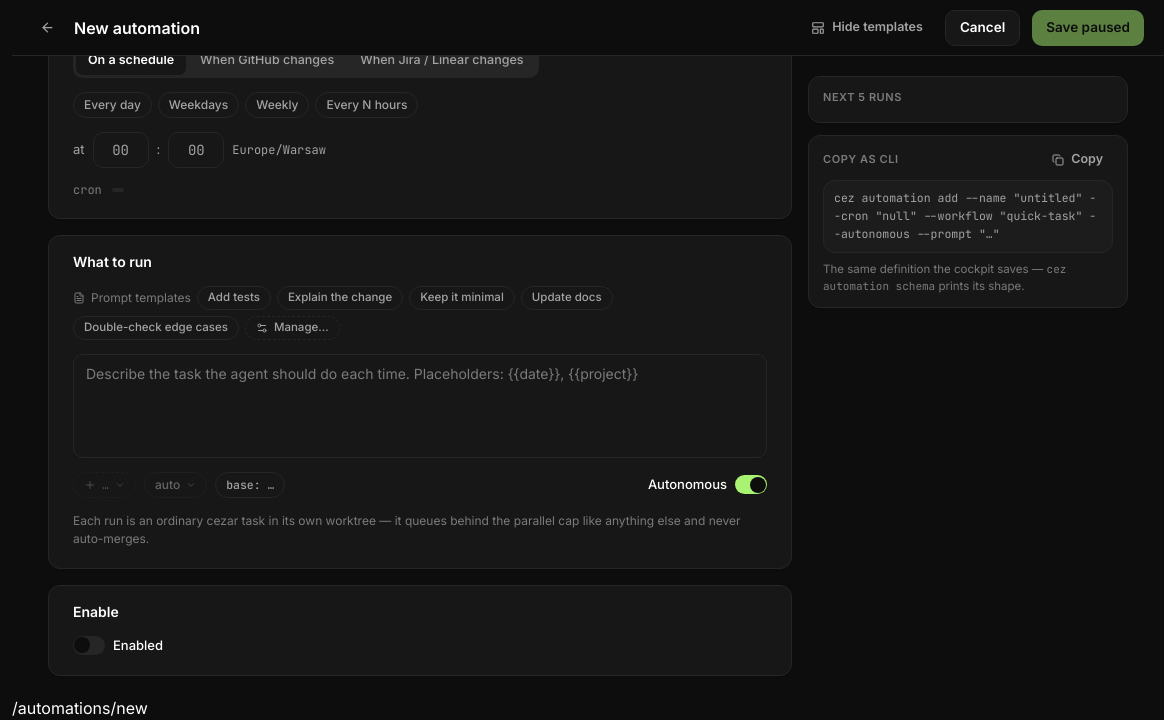
Test case: AutomationEditor — new › inserts a prompt template at the caret and offers Manage… into Settings
This screenshot has width=1164, height=720.
Check: the button "Add tests" is shown, box [197,286,271,310]
Replace the text in the text box named "Prompt" with "Bump deps.": (420, 406) [73,354,767,458]
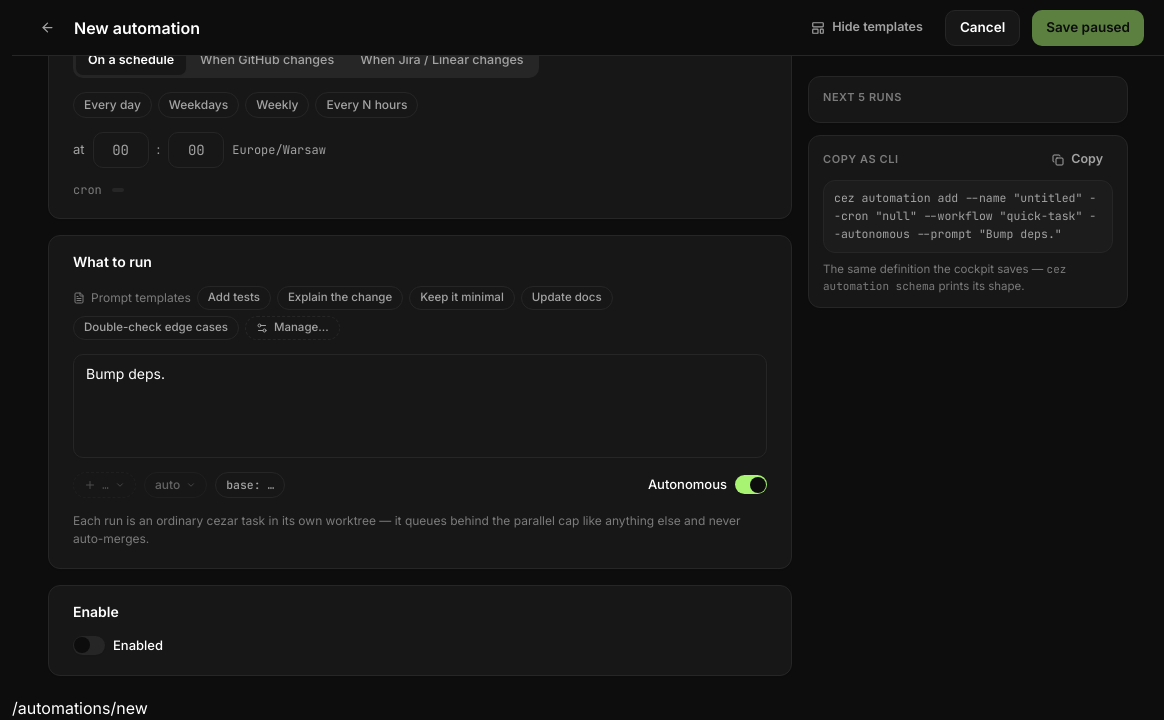
Click the button "Add tests": (234, 298) [197,286,271,310]
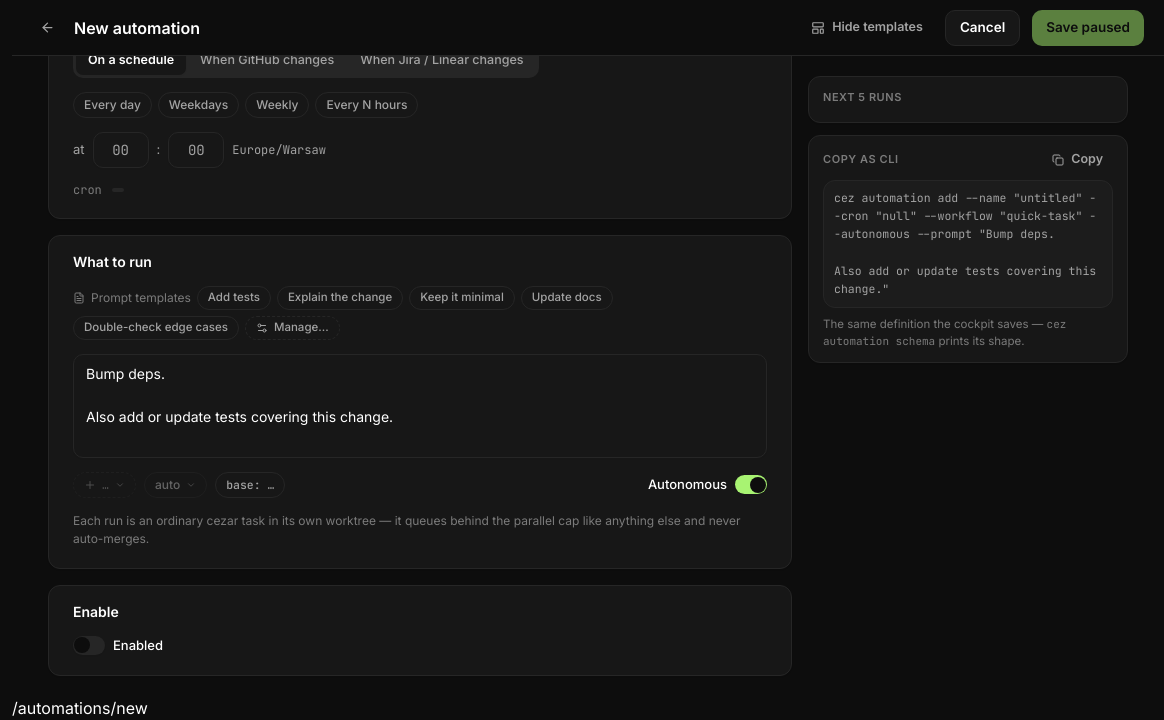
Click the button "Manage…": (292, 328) [245,316,340,340]
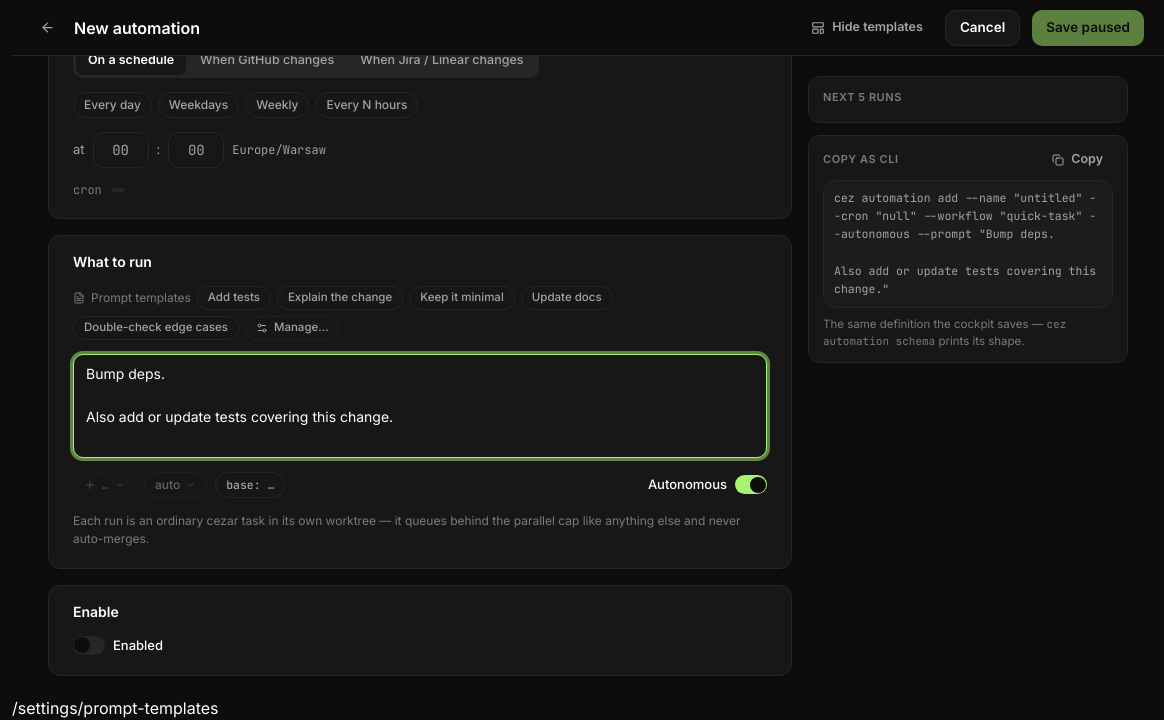
Check: the text with test id "location" reads "/settings/prompt-templates", box [12,698,218,718]
